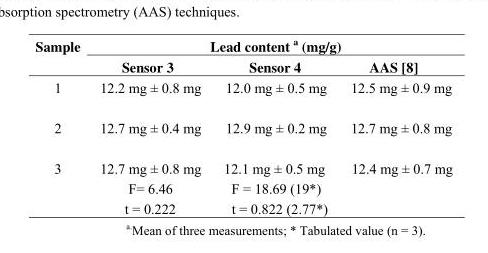table: (34, 34, 451, 216)
table column: (211, 34, 338, 216), (89, 34, 211, 216), (338, 34, 451, 216), (34, 34, 89, 216)
table column header: (34, 34, 451, 77)
table row: (34, 147, 451, 216), (34, 107, 451, 147), (34, 77, 451, 107), (34, 34, 451, 56), (34, 56, 451, 77)
table spanning cell: (89, 34, 451, 56), (34, 34, 89, 77)
